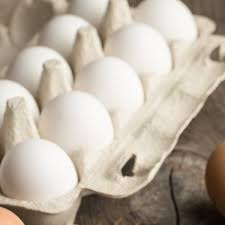eggs: (5, 130, 69, 209), (41, 101, 123, 153), (103, 28, 171, 90), (6, 40, 69, 93), (81, 62, 137, 117), (47, 13, 86, 56)
